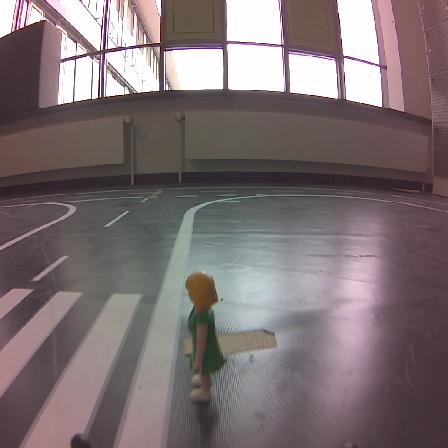PERSON: (185, 271, 223, 401)
